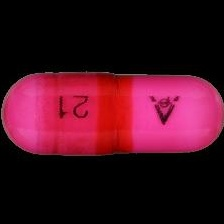68788-9698: (0, 0, 224, 224)
